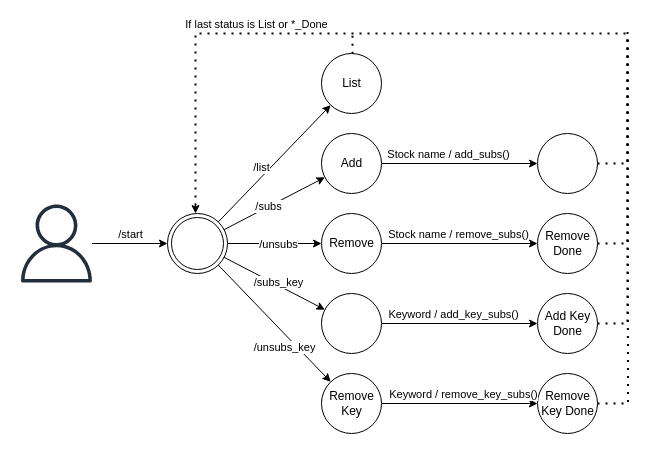
The diagram is 647 pixels wide and 451 high, and some of its shapes have lost their labels. The centre of each missing label's shape, as x and y in pixels:
Add Done: pixel 567 163
Add Key: pixel 351 323
Start: pixel 197 243
